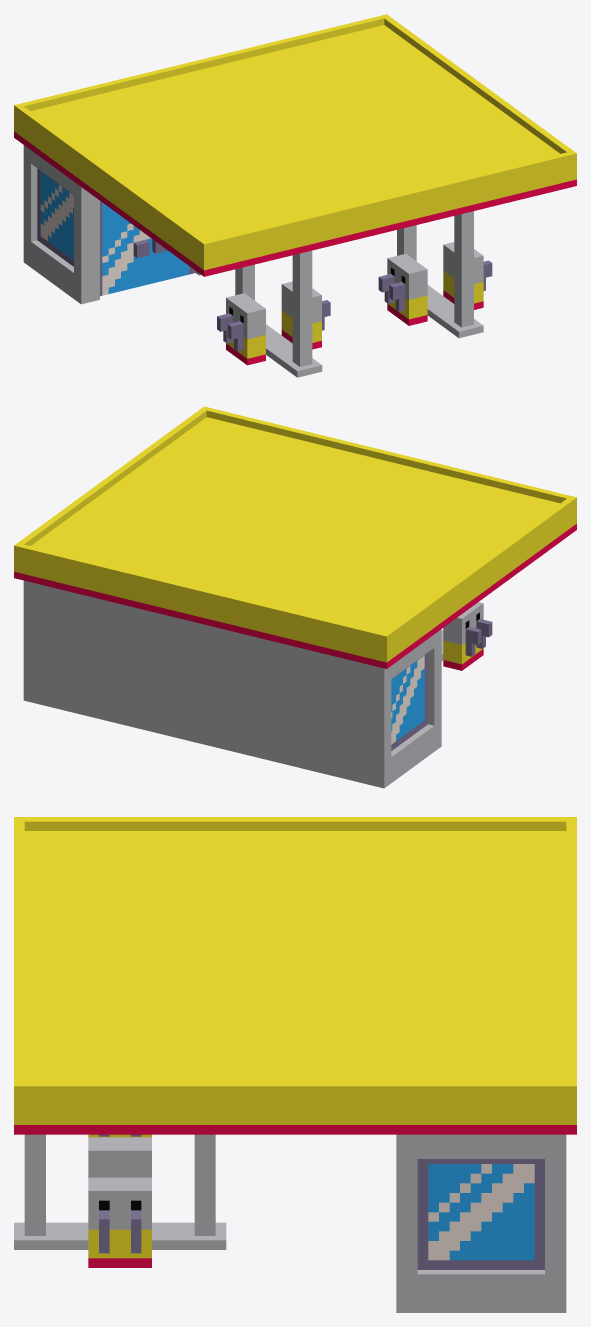
The model's file is gas_station_b_a.obj.
3 renders of one model, top to bottom at view 1: azimuth 30°, elevation 25°; view 2: azimuth 150°, elevation 25°; view 3: azimuth 270°, elevation 25°, orthographic. The views are drawn at different scales.
Bounding box in the file's own units: 6 × 2.4 × 5.3.
Materials: 1 (1 with a texture image).
